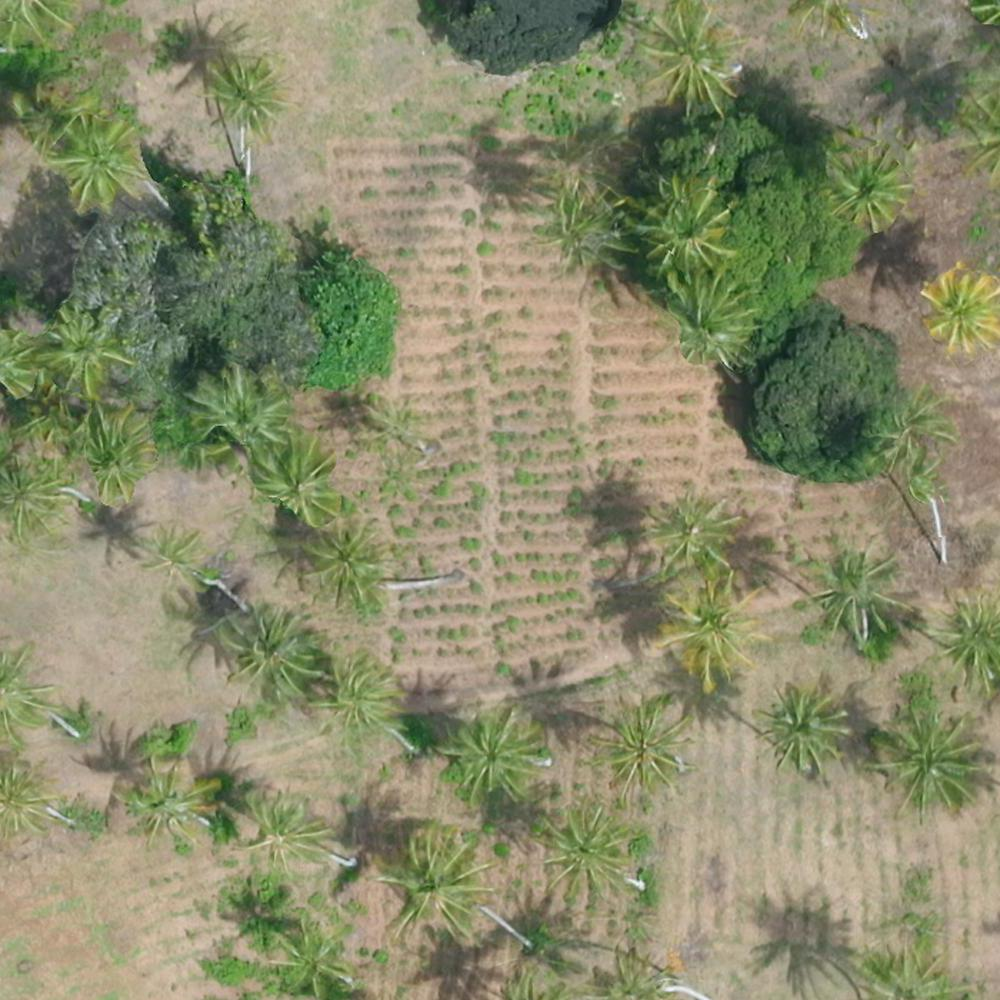Palm: (638, 8, 744, 111), (664, 273, 766, 367), (881, 710, 980, 805), (382, 836, 482, 927), (635, 182, 734, 273), (865, 394, 964, 484), (661, 588, 755, 680), (448, 712, 541, 801), (802, 548, 896, 636), (47, 113, 140, 200), (542, 805, 630, 895), (649, 490, 734, 583), (194, 367, 291, 447), (243, 431, 334, 516), (220, 608, 313, 688), (115, 759, 205, 839), (593, 711, 677, 795), (763, 684, 847, 767), (1, 452, 76, 544), (41, 312, 122, 397), (535, 188, 619, 268), (822, 148, 907, 227), (71, 410, 151, 493), (235, 791, 325, 864), (316, 655, 397, 734), (204, 56, 286, 132), (299, 521, 378, 595), (924, 272, 999, 349)
